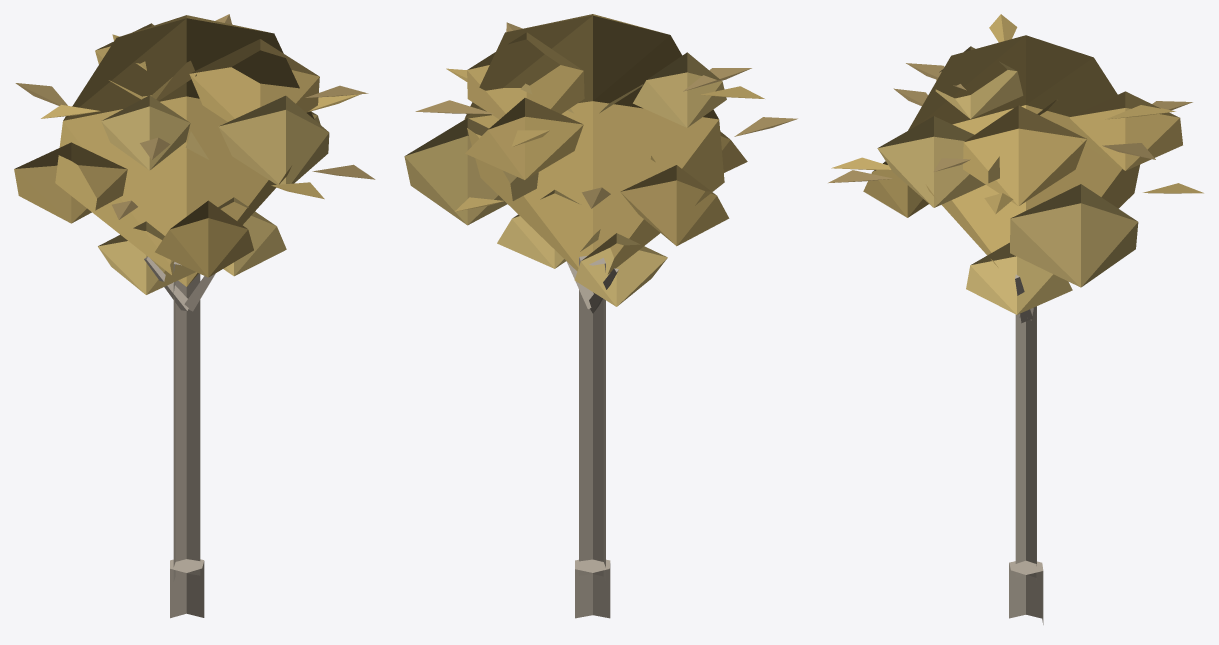
The model's file is shu.baigan@subadult__autumn.glb.
3 renders of one model, left to right at view 1: azimuth 30°, elevation 25°; view 2: azimuth 150°, elevation 25°; view 3: azimuth 270°, elevation 25°, orthographic. The views are drawn at different scales.
Visible parts, largest first — view 1: shu.baigan@subadult__autumn; view 2: shu.baigan@subadult__autumn; view 3: shu.baigan@subadult__autumn.
Boxes of the visible parts, x1,y1,x2,y2 form: shu.baigan@subadult__autumn: (14, 14, 375, 618); shu.baigan@subadult__autumn: (404, 14, 797, 618); shu.baigan@subadult__autumn: (828, 14, 1203, 624).
Size of the model in its own units: 4.61 by 8.31 by 4.84.
